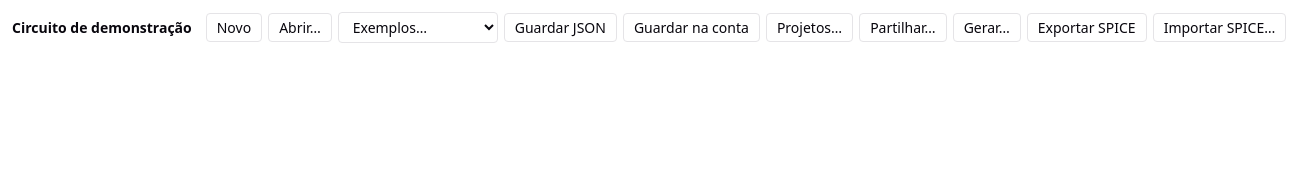
Test: ProjectMenu › Exportar SPICE mostra os erros de um circuito inválido
Click the button "Exportar SPICE".
click(1087, 28)  # box [1027,13,1147,42]
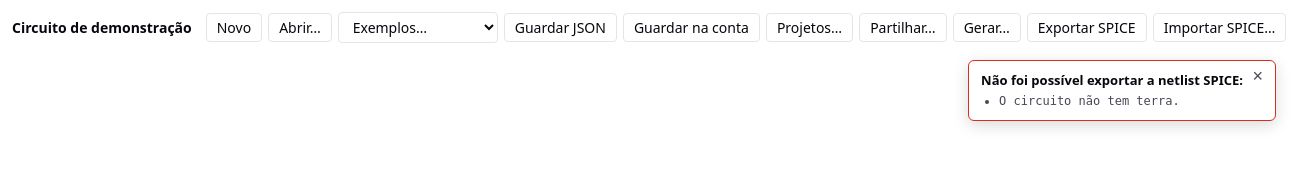
Result: the message shows "Não foi possível exportar a netlist SPICE" at [981,71,1243,89]
Result: the message shows "O circuito não tem terra." at [999,94,1180,108]
